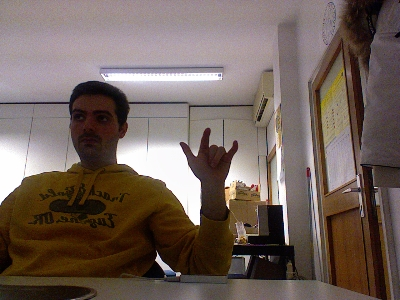我爱你: (178, 126, 239, 183)
